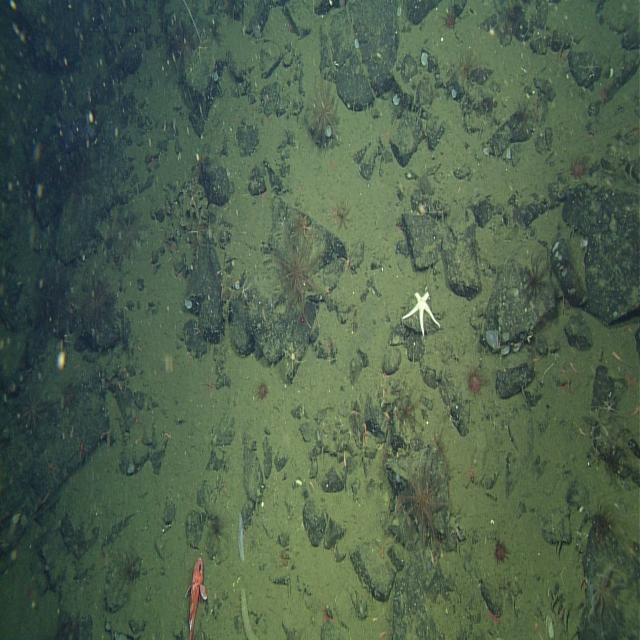Brittle Star: (461, 452, 482, 491), (186, 216, 208, 252), (42, 450, 62, 483), (184, 185, 203, 217), (72, 433, 90, 465), (284, 340, 302, 372), (582, 56, 601, 84)
Not Brittle Star: (265, 218, 326, 327), (392, 444, 452, 554), (303, 73, 342, 150), (514, 242, 554, 316), (586, 562, 624, 636), (182, 551, 210, 640), (400, 284, 443, 341), (584, 494, 622, 554), (78, 269, 115, 330), (19, 383, 55, 438), (110, 212, 141, 267), (117, 544, 146, 591), (326, 193, 355, 237), (326, 194, 355, 236), (203, 504, 228, 547), (57, 376, 83, 416), (287, 208, 315, 244), (464, 362, 487, 399), (568, 151, 590, 183), (235, 510, 247, 566), (491, 535, 510, 567), (252, 376, 270, 405), (484, 324, 501, 353), (392, 92, 401, 106)
